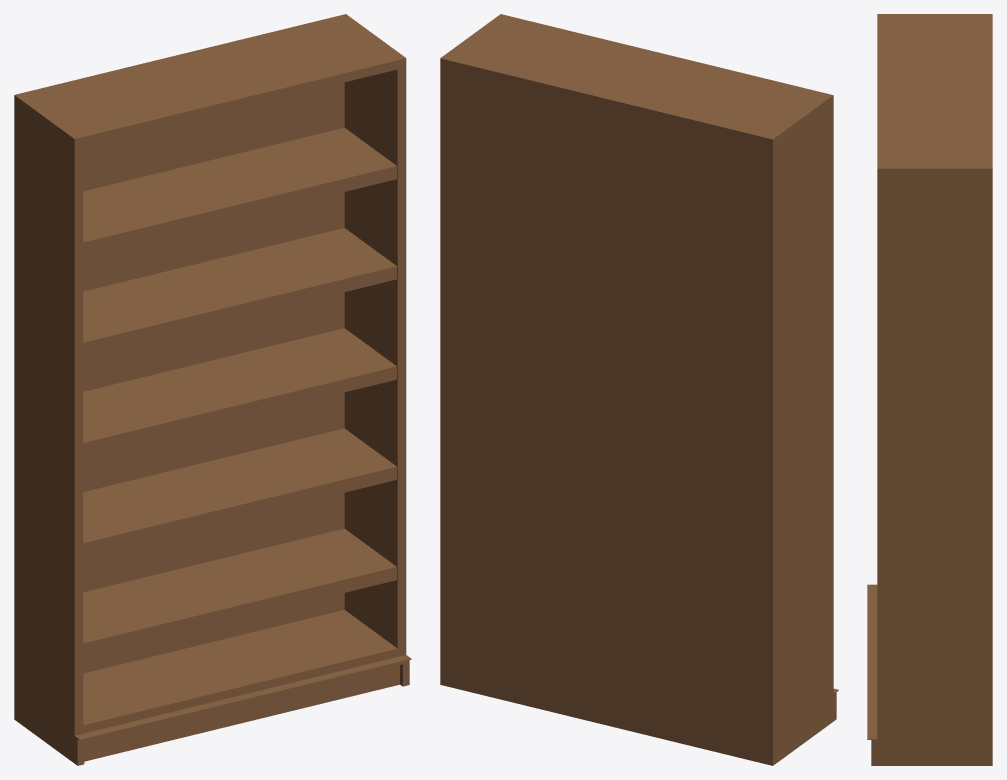
File: Cupboard_03_01.fbx
3 renders of one model, left to right at view 1: azimuth 30°, elevation 25°; view 2: azimuth 150°, elevation 25°; view 3: azimuth 270°, elevation 25°, orthographic. The views are drawn at different scales.
Parts seen in each view (by area): view 1: Cupboard_03_01; view 2: Cupboard_03_01; view 3: Cupboard_03_01.
Part boxes in pixels (x1=…): Cupboard_03_01: x1=14, y1=14, x2=411, y2=765; Cupboard_03_01: x1=440, y1=14, x2=838, y2=765; Cupboard_03_01: x1=867, y1=14, x2=992, y2=765.
Bounding box in the file's own units: 115 × 208 × 39.57.
